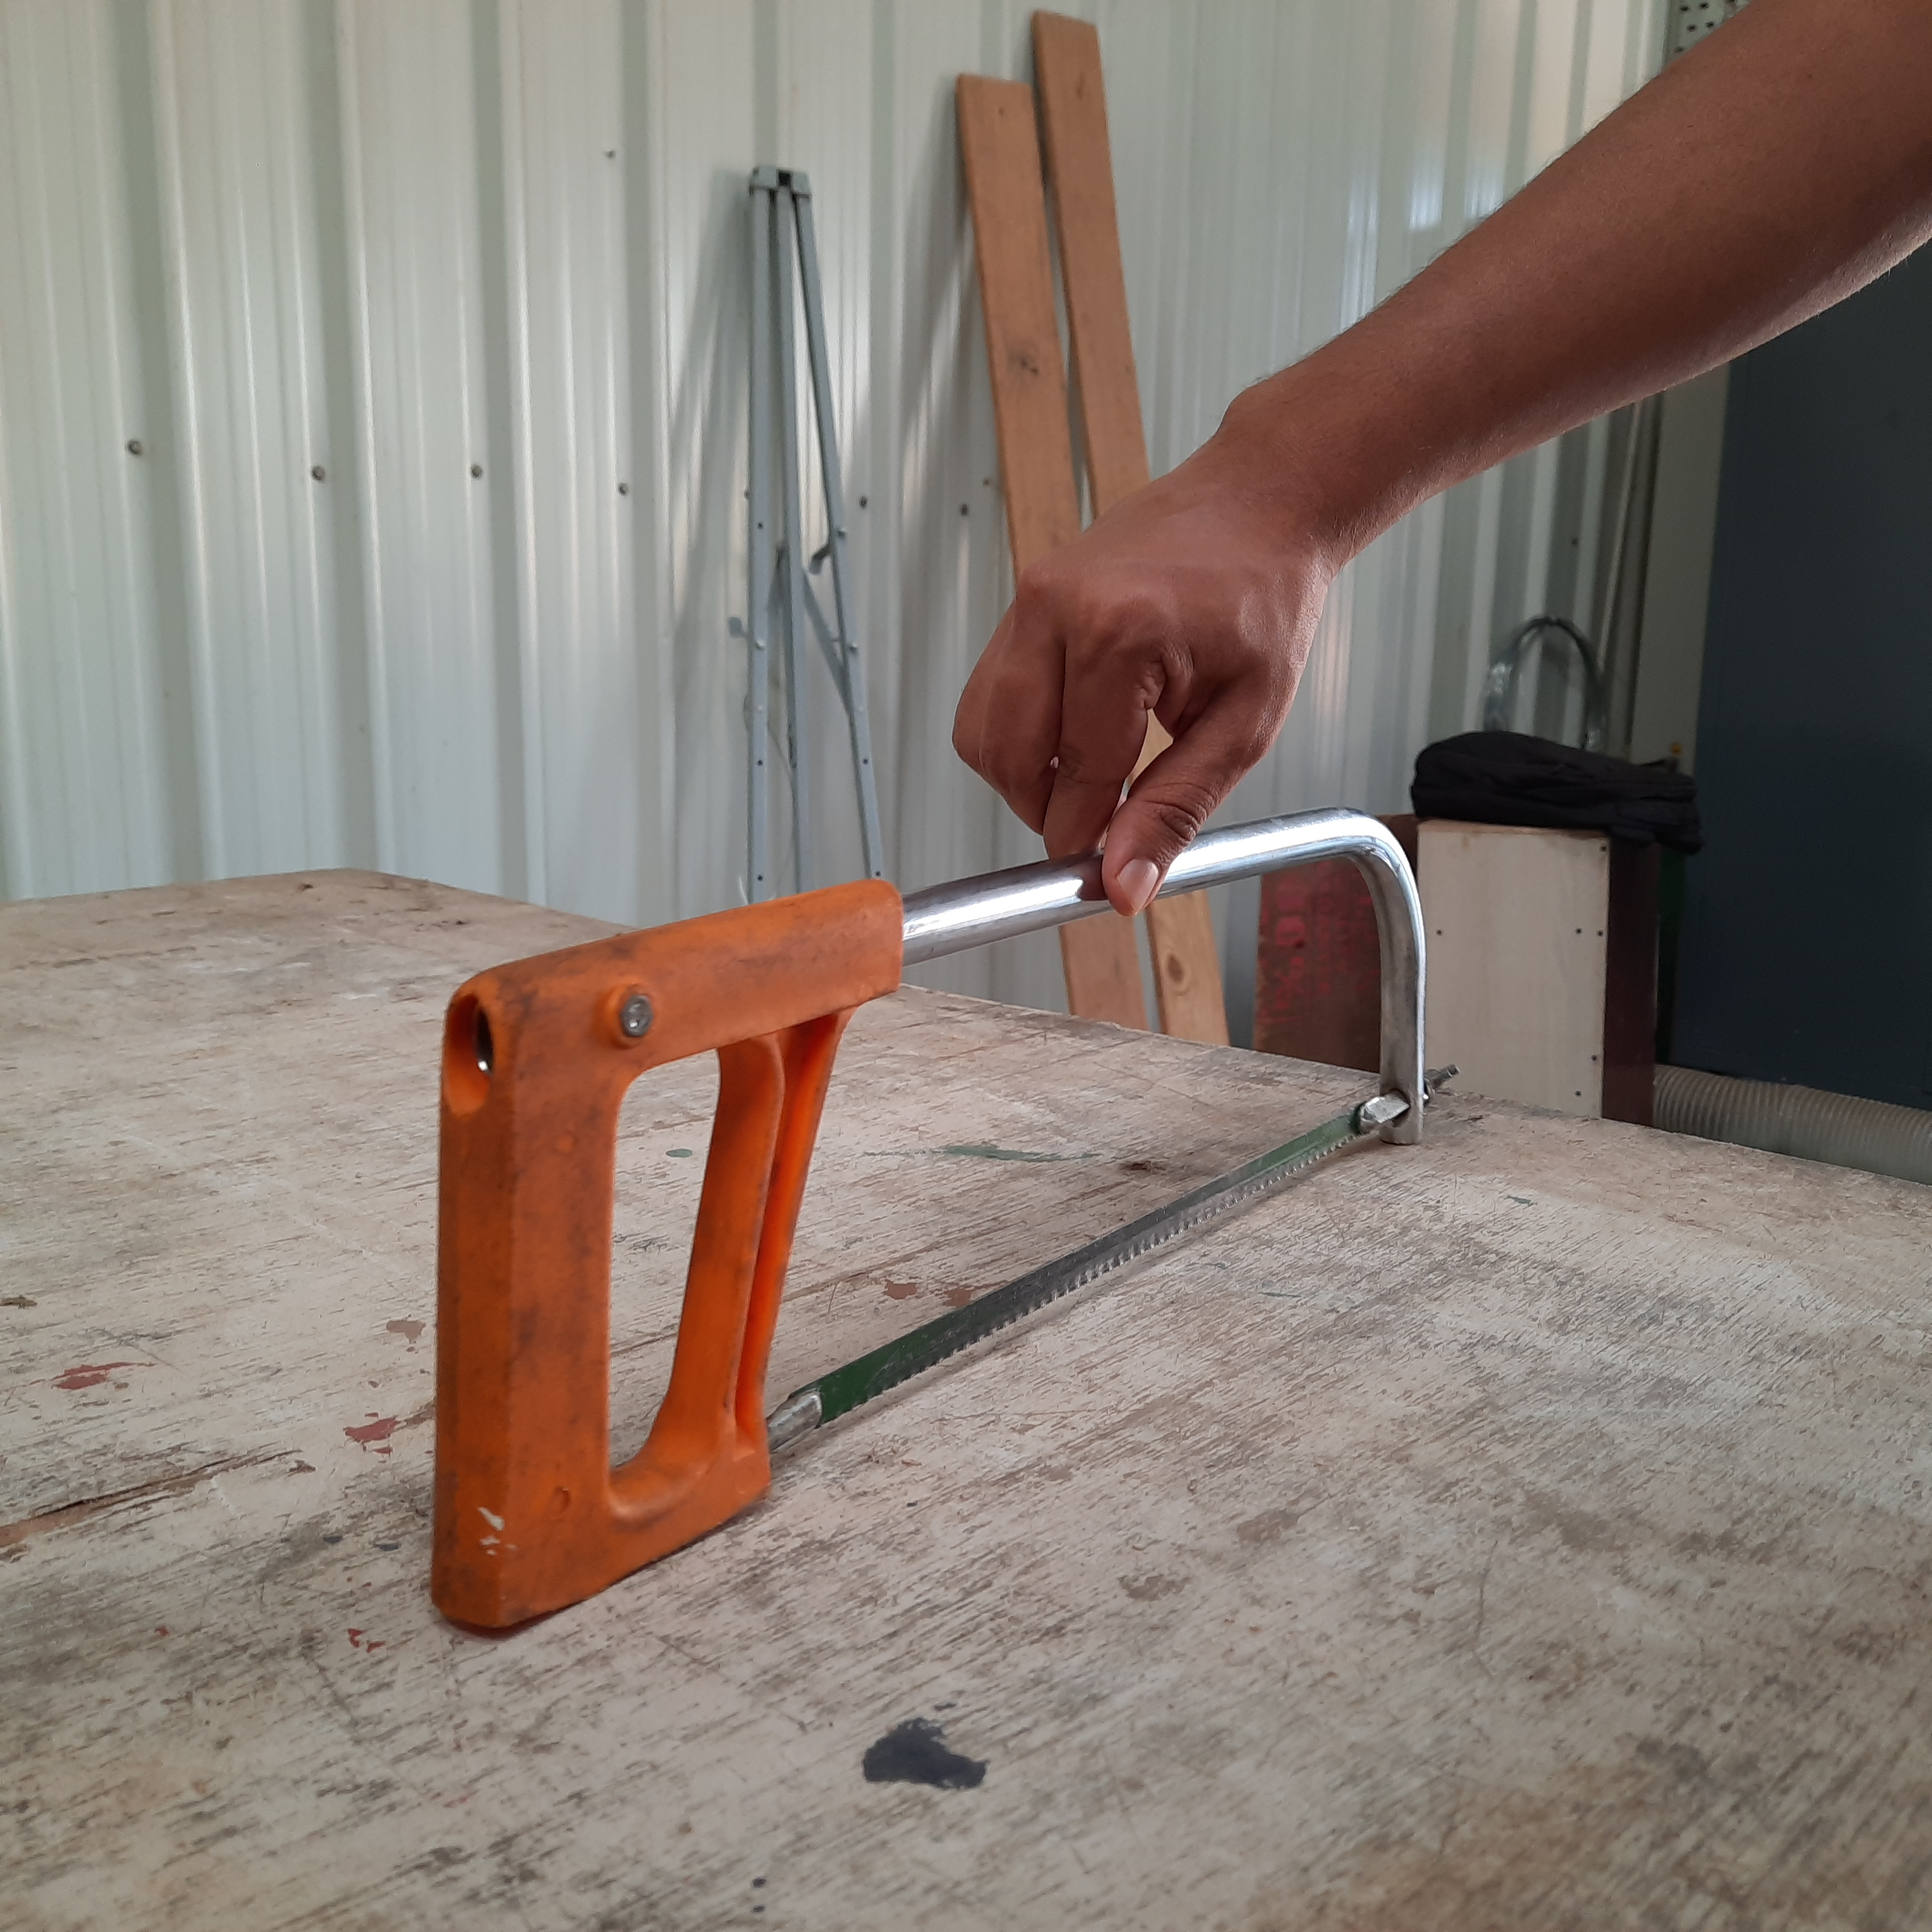Hexaframe: (409, 814, 1474, 1580)
